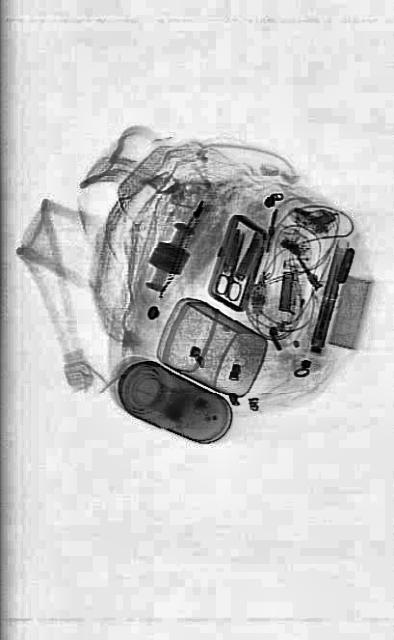Scissors: (213, 228, 253, 302)
